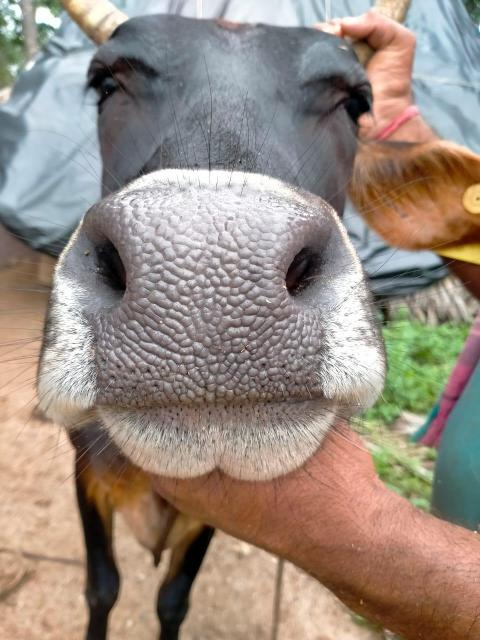Muzzle: (94, 200, 322, 400)
